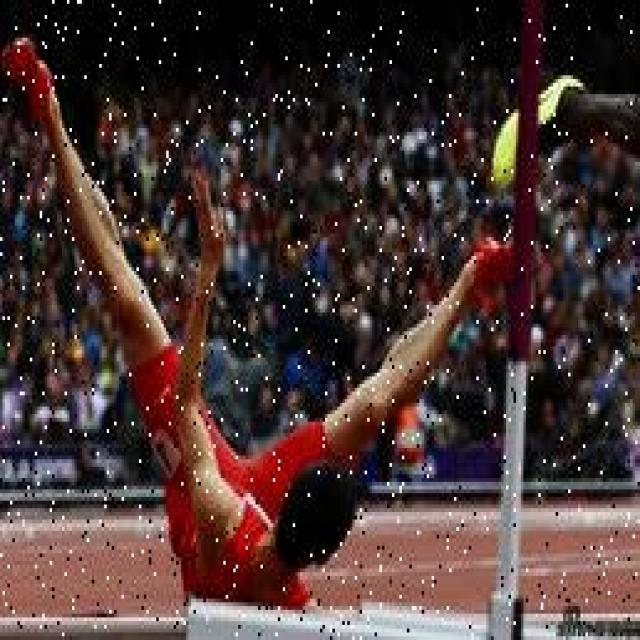fall: (94, 245, 377, 606)
